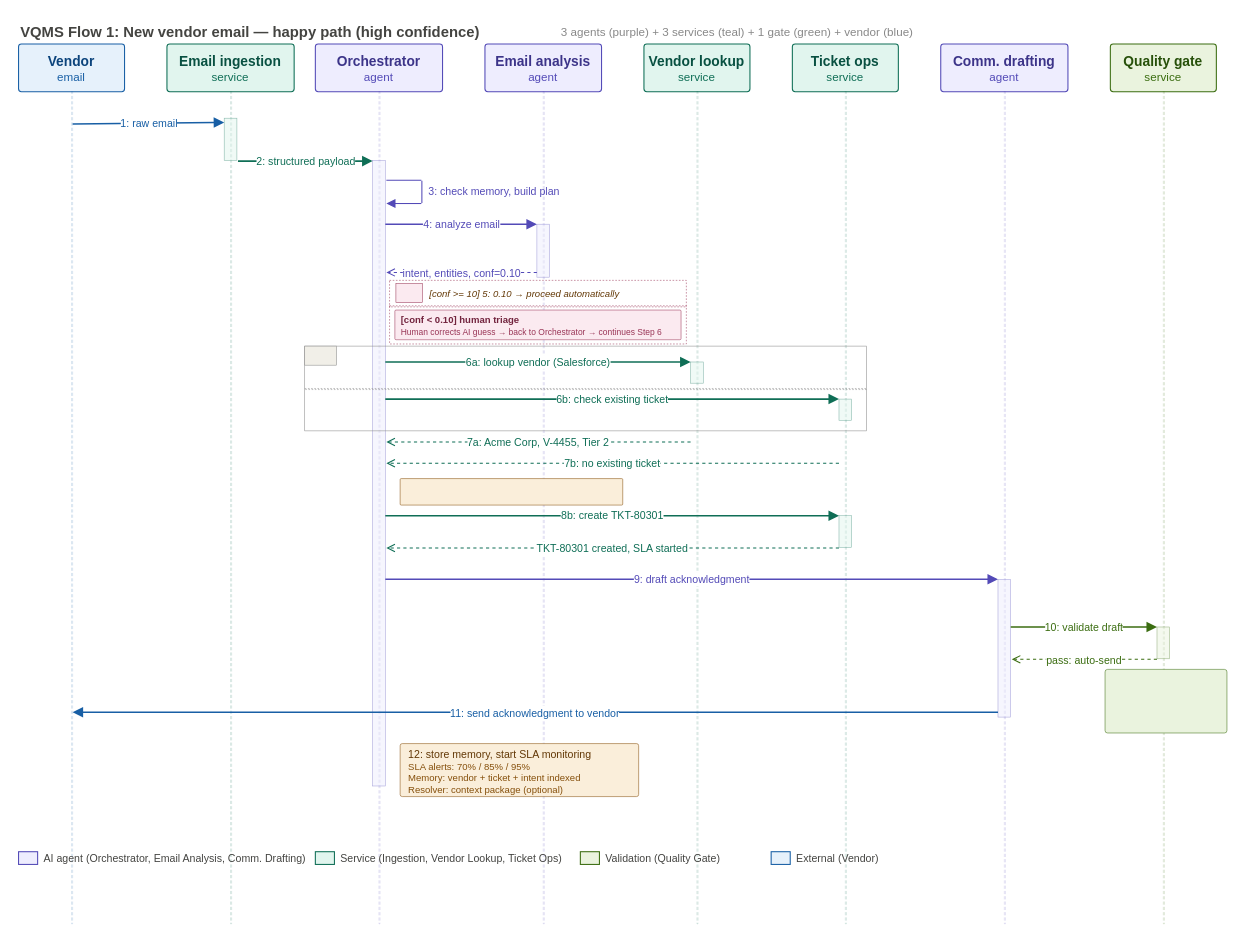
The diagram is 1245 pixels wide and 942 high, and some of its shapes have lost their labels. The shapes that lost their labels are listed below. From the top down, each one's centre as x and y in pixels, then its label:
point 408,292: alt
point 320,355: par
point 511,491: 8a: route → Finance-AP, Medium-High
point 1165,701: Ticket exists? ✓ SLA wording? ✓ Template? ✓ PII scan? CLEAN Auto-send? ✓
